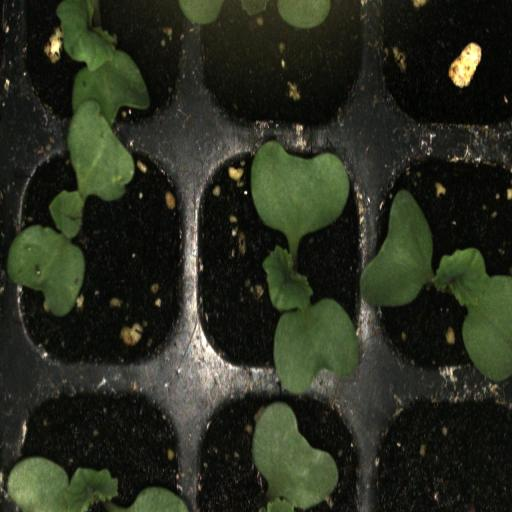Folha: (6, 456, 189, 512), (163, 0, 332, 51)
Germinacao: (191, 139, 366, 392), (11, 141, 190, 386), (368, 136, 512, 394)
